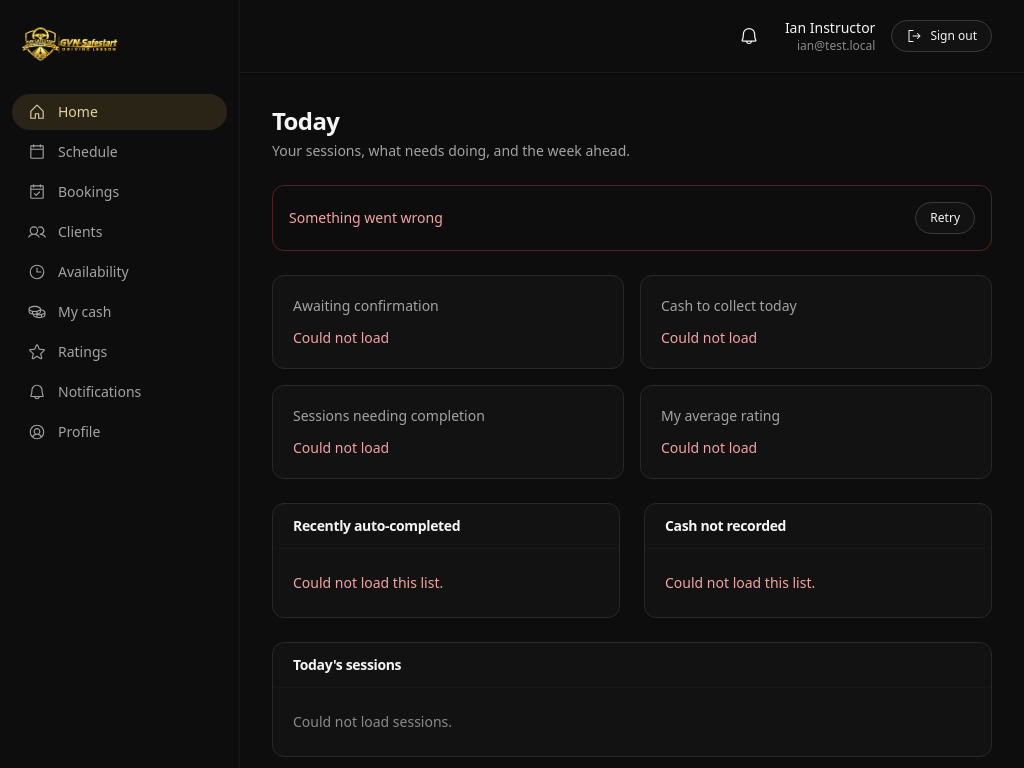
Test: instructor home › shows an error with retry
Click the button "Retry".
click(945, 218)  # box 915,202 -> 975,234
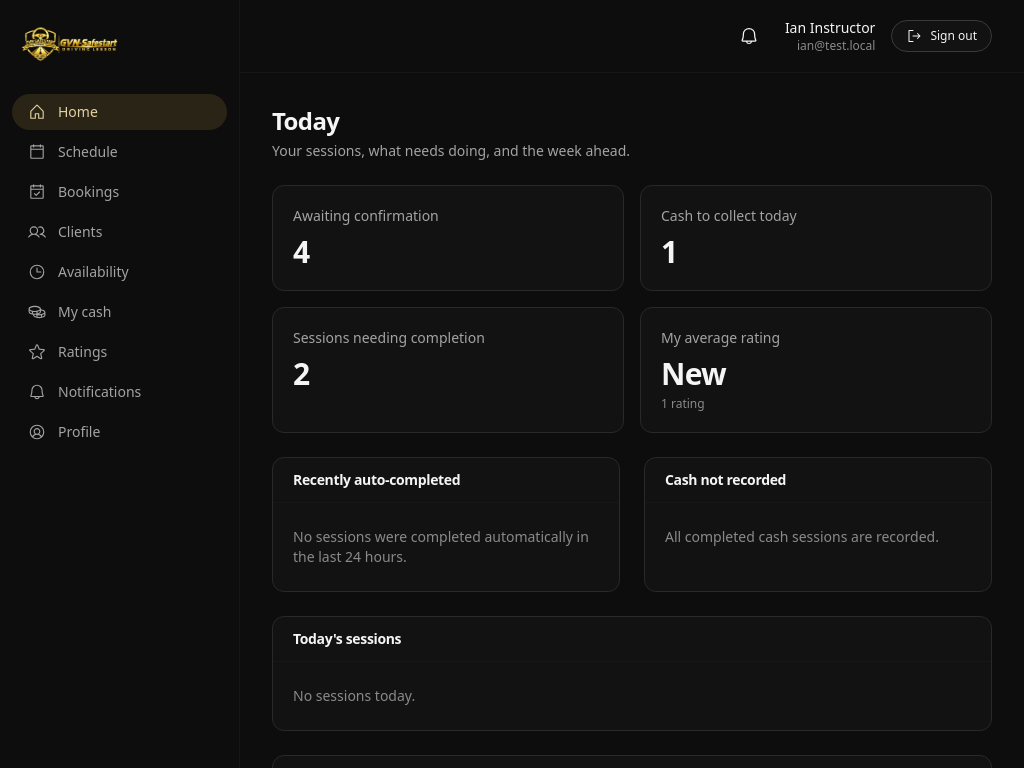
expect the text "No sessions today." is shown: met, box 293,686 -> 415,705
